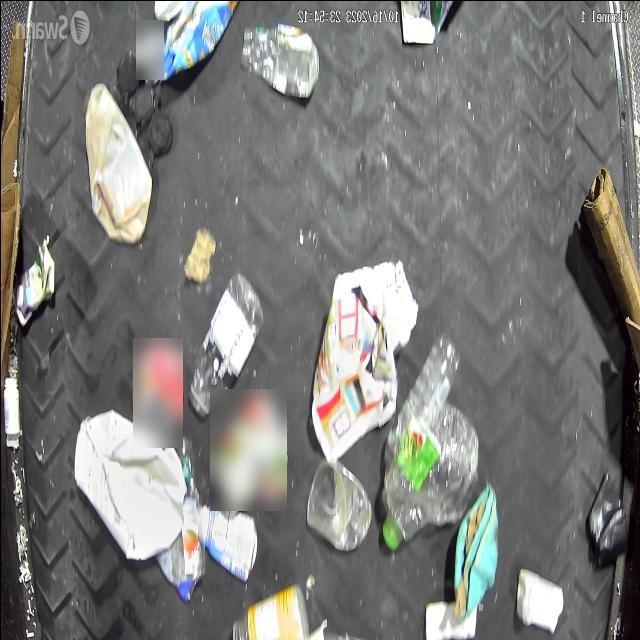milk_jug: (70, 408, 184, 564), (84, 80, 151, 244)
plastic_bottle: (188, 270, 262, 416), (383, 332, 460, 464), (238, 22, 317, 100)
